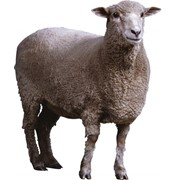sheeo: (12, 1, 159, 180)
